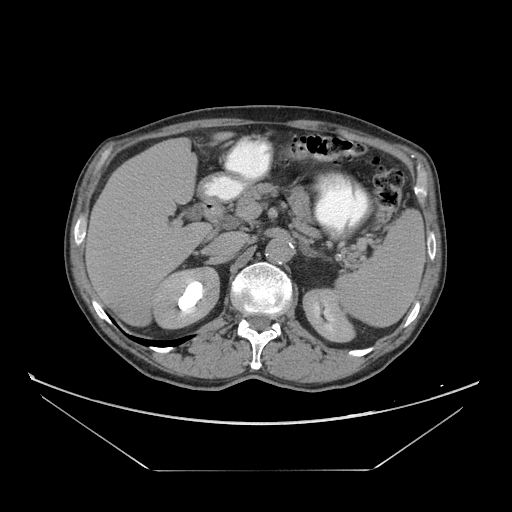left_kidney: (147, 262, 225, 332)
right_kidney: (296, 283, 359, 344)
